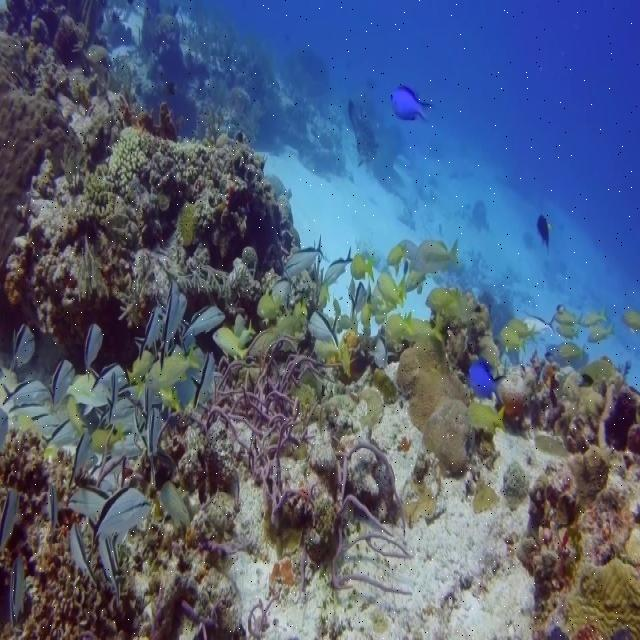aquatic plants: (186, 330, 418, 598)
fish: (90, 488, 149, 538), (182, 305, 226, 349), (160, 274, 180, 363), (70, 523, 97, 585), (391, 87, 434, 122), (466, 359, 502, 399), (464, 401, 504, 435), (410, 242, 458, 269), (0, 489, 20, 553), (52, 359, 76, 408), (4, 380, 51, 405), (10, 326, 35, 370), (86, 321, 107, 372), (11, 554, 23, 621)
reefs: (90, 131, 277, 222)
